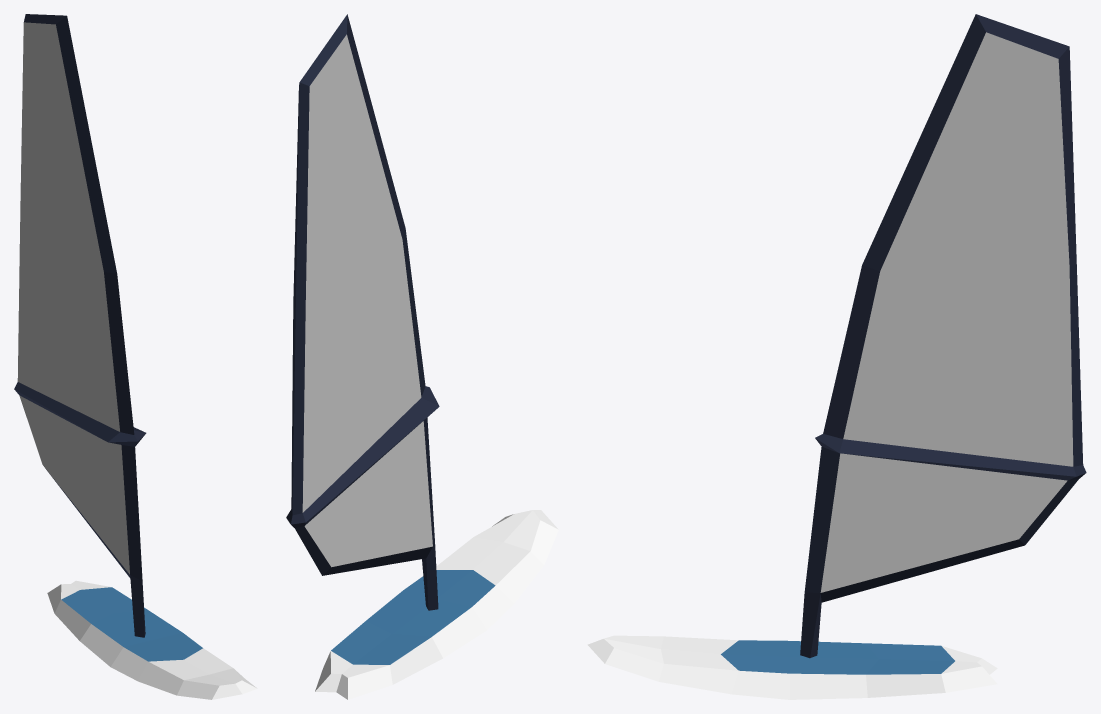
Rendered from sport-windsurf.glb.
The picture shows the model from 3 angles, left to right: view 1: azimuth 30°, elevation 25°; view 2: azimuth 150°, elevation 25°; view 3: azimuth 270°, elevation 25°; orthographic projection. The views are drawn at different scales.
Visible parts, largest first — view 1: windsurf-sail, windsurf-base; view 2: windsurf-sail, windsurf-base; view 3: windsurf-sail, windsurf-base.
Boxes of the visible parts, x1=… form: windsurf-sail: x1=14, y1=14, x2=146, y2=637; windsurf-base: x1=47, y1=580, x2=257, y2=699; windsurf-sail: x1=286, y1=14, x2=439, y2=610; windsurf-base: x1=315, y1=510, x2=558, y2=699; windsurf-sail: x1=800, y1=14, x2=1086, y2=658; windsurf-base: x1=587, y1=635, x2=997, y2=699.
Bounding box in the file's own units: 0.64 × 4.18 × 2.85.
